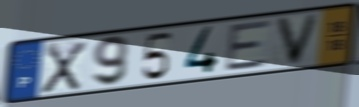4: (182, 24, 221, 77)
5: (140, 30, 174, 81)
9: (90, 35, 131, 88)
E: (222, 17, 275, 73)
V: (273, 12, 322, 68)
X: (39, 39, 89, 96)
